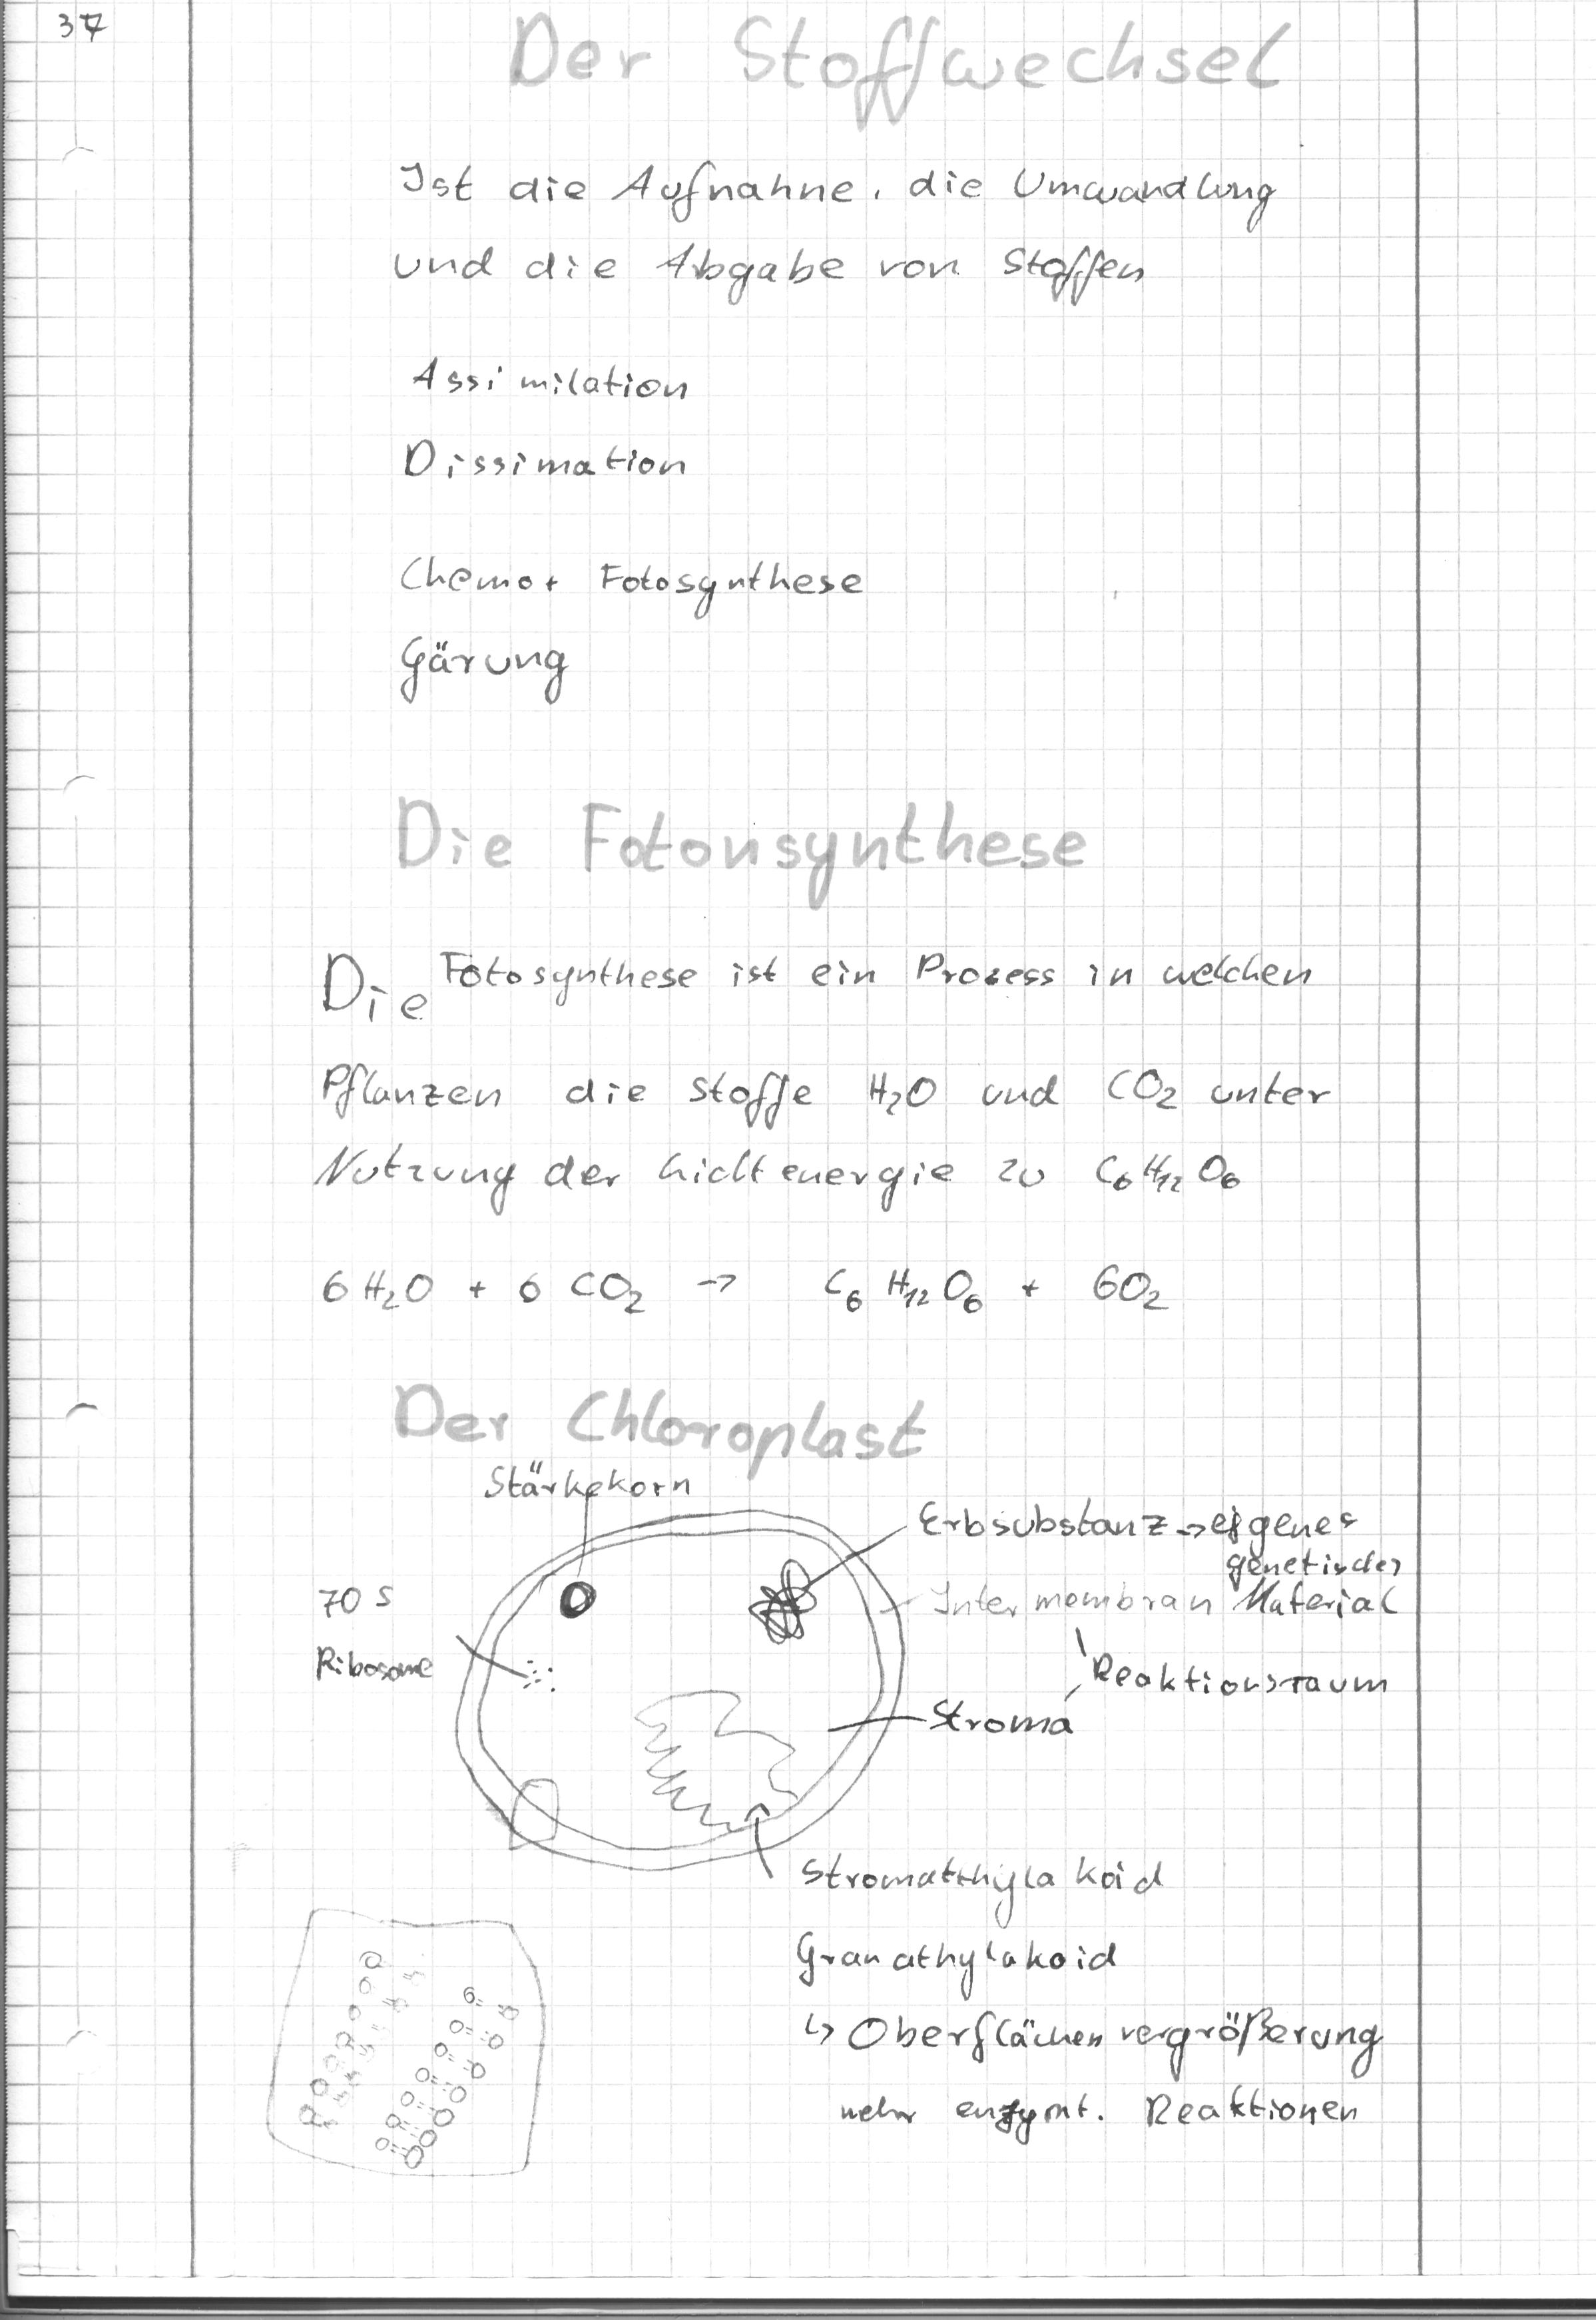word: (790, 1849, 1390, 2159), (311, 1053, 1338, 1231), (378, 147, 1282, 314), (311, 938, 1315, 1035), (386, 547, 872, 723), (311, 1251, 1207, 1345), (912, 1492, 1412, 1631), (917, 1643, 1400, 1763), (393, 353, 716, 493), (284, 1564, 465, 1707), (463, 1441, 702, 1524)
